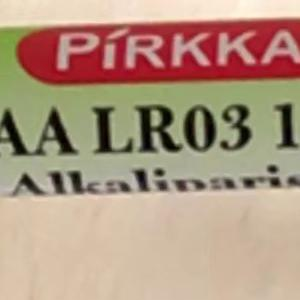keyword: (2, 161, 98, 206)
